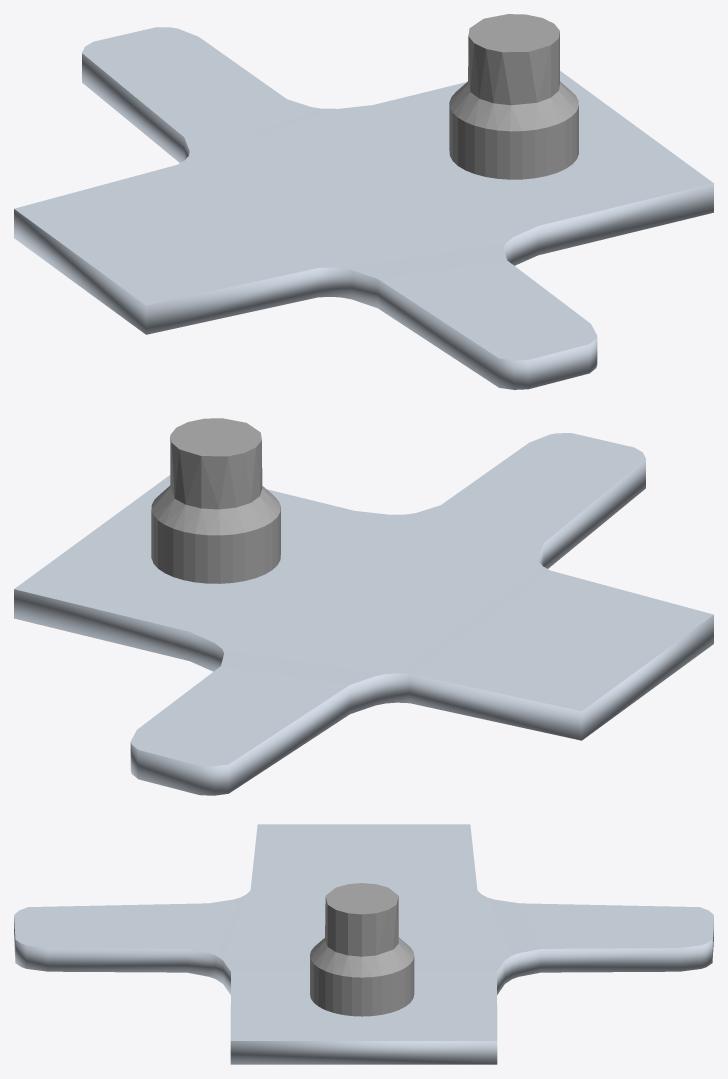
The model's file is camera_board.dae.
3 views of the same model, one above another, from view 1: azimuth 30°, elevation 25°; view 2: azimuth 150°, elevation 25°; view 3: azimuth 270°, elevation 25° (orthographic). The views are drawn at different scales.
Parts seen in each view (by area): view 1: CameraBaord_Low, Cylinder_004; view 2: CameraBaord_Low, Cylinder_004; view 3: CameraBaord_Low, Cylinder_004.
Part boxes in pixels (x1,y1,x2,y2): CameraBaord_Low: [14, 27, 713, 389]; Cylinder_004: [449, 14, 578, 179]; CameraBaord_Low: [14, 433, 713, 795]; Cylinder_004: [151, 418, 280, 583]; CameraBaord_Low: [14, 824, 713, 1064]; Cylinder_004: [310, 883, 414, 1016].
Size of the model in its own units: 0.096 by 0.1312 by 0.0247.
